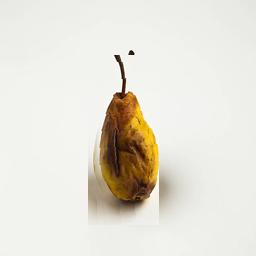Pear Rotten: (88, 55, 159, 225)
